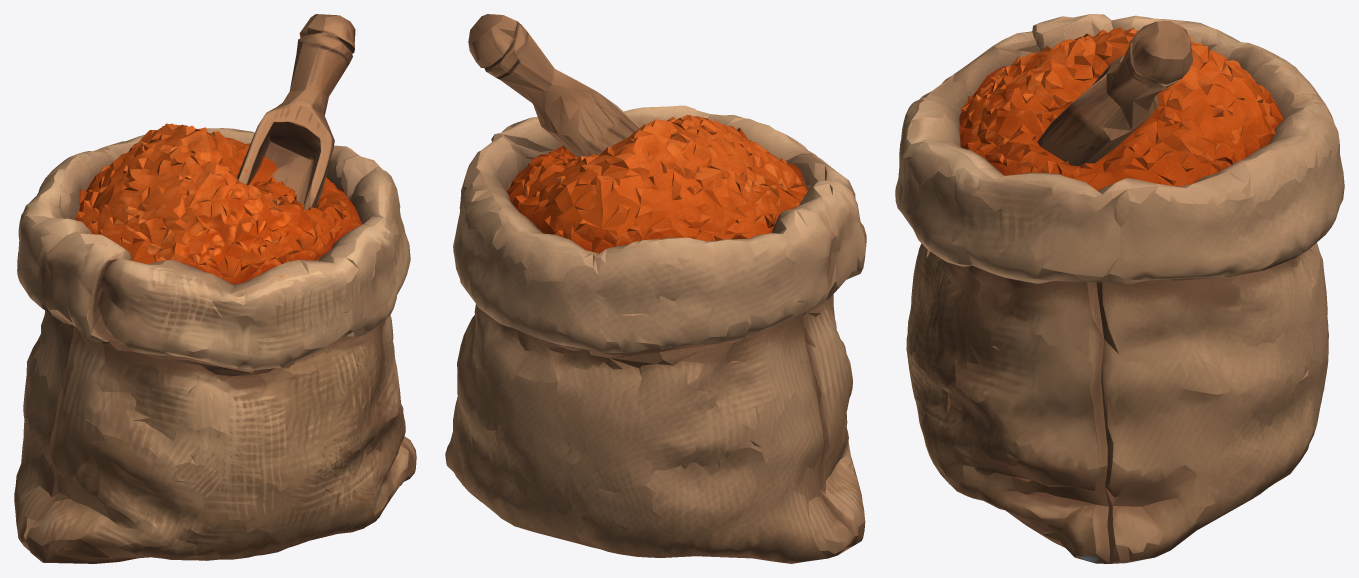
Rendered from prop-spice.glb.
3 renders of one model, left to right at view 1: azimuth 30°, elevation 25°; view 2: azimuth 150°, elevation 25°; view 3: azimuth 270°, elevation 25°, orthographic. The views are drawn at different scales.
Visible parts, largest first — view 1: mesh_node; view 2: mesh_node; view 3: mesh_node.
Boxes of the visible parts, x1=… form: mesh_node: x1=14, y1=14, x2=416, y2=563; mesh_node: x1=445, y1=14, x2=866, y2=563; mesh_node: x1=895, y1=14, x2=1344, y2=563.
Size of the model in its own units: 1.7 by 1.9 by 1.51.
1 material, 1 textured.
